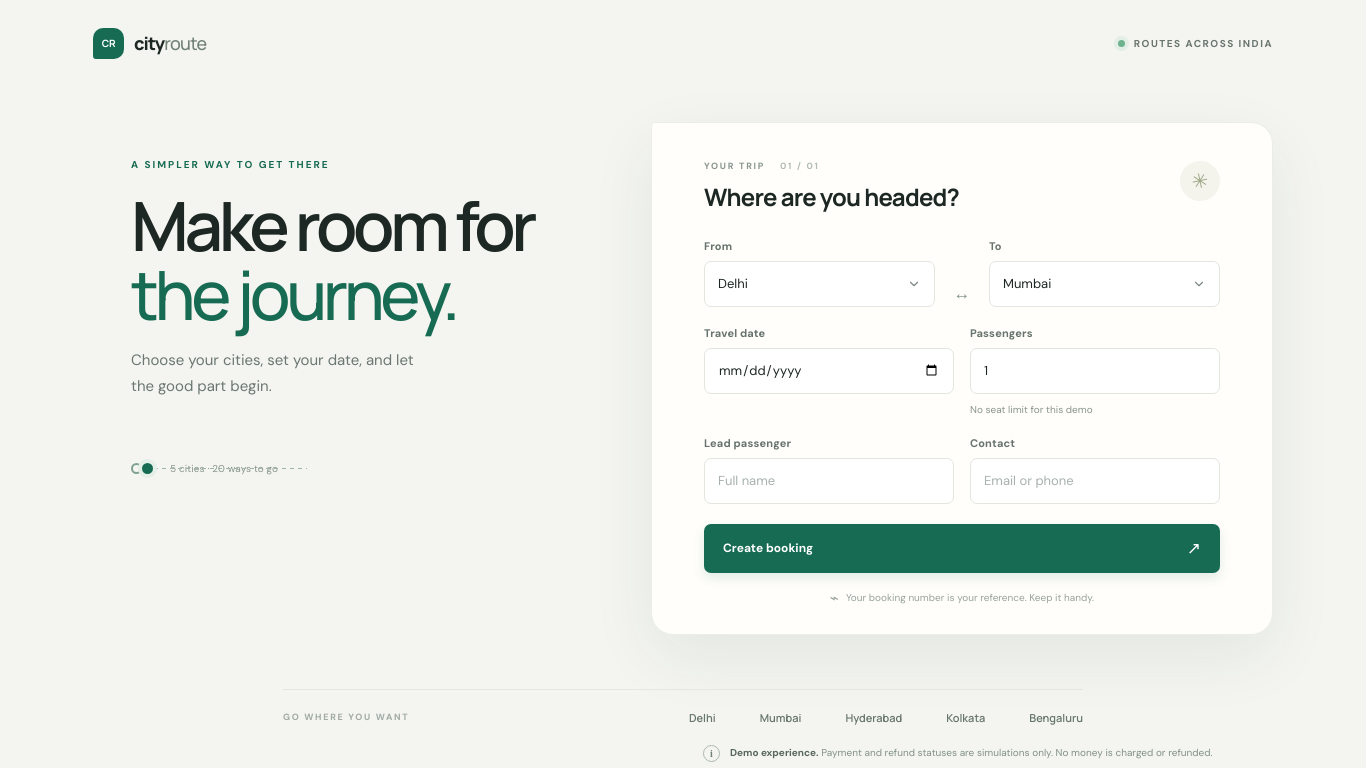
Scenario: booking interface › shows API field validation errors accessibly
The image size is (1366, 768).
In the date field labelled "Travel date": (829, 371) x1=704 y1=348 x2=954 y2=394, type "2027-03-14"
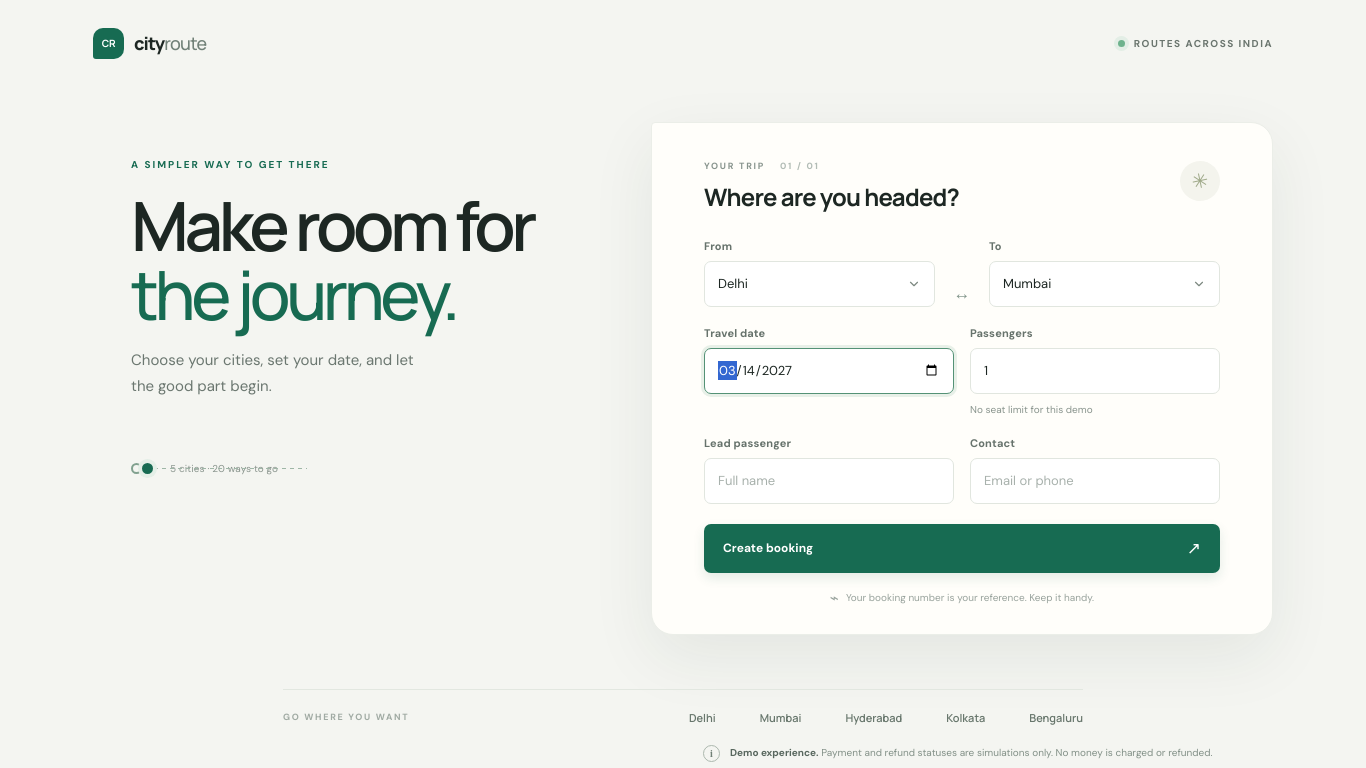
In the field labelled "Lead passenger": (829, 481) x1=704 y1=458 x2=954 y2=504, type "Ada Lovelace"
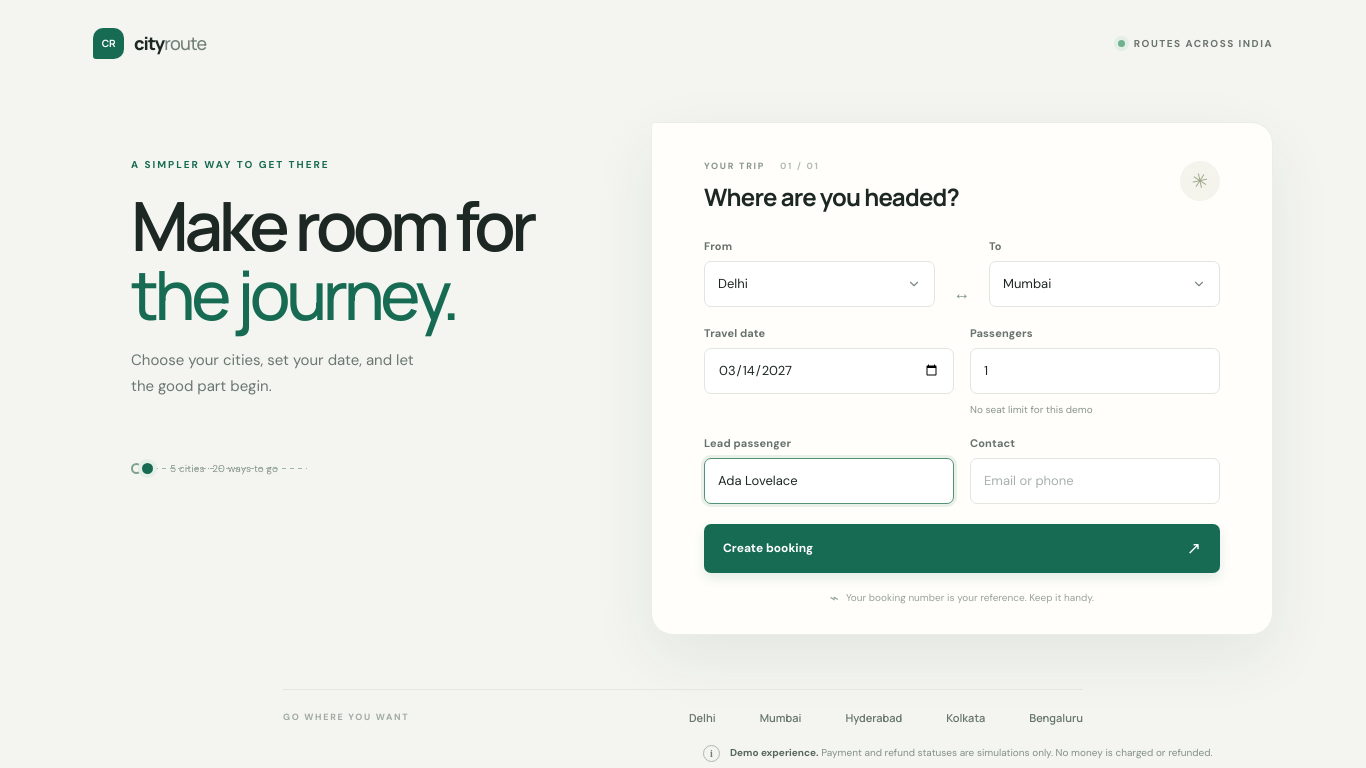
In the field labelled "Contact": (1095, 481) x1=970 y1=458 x2=1220 y2=504, type "ada@example.test"
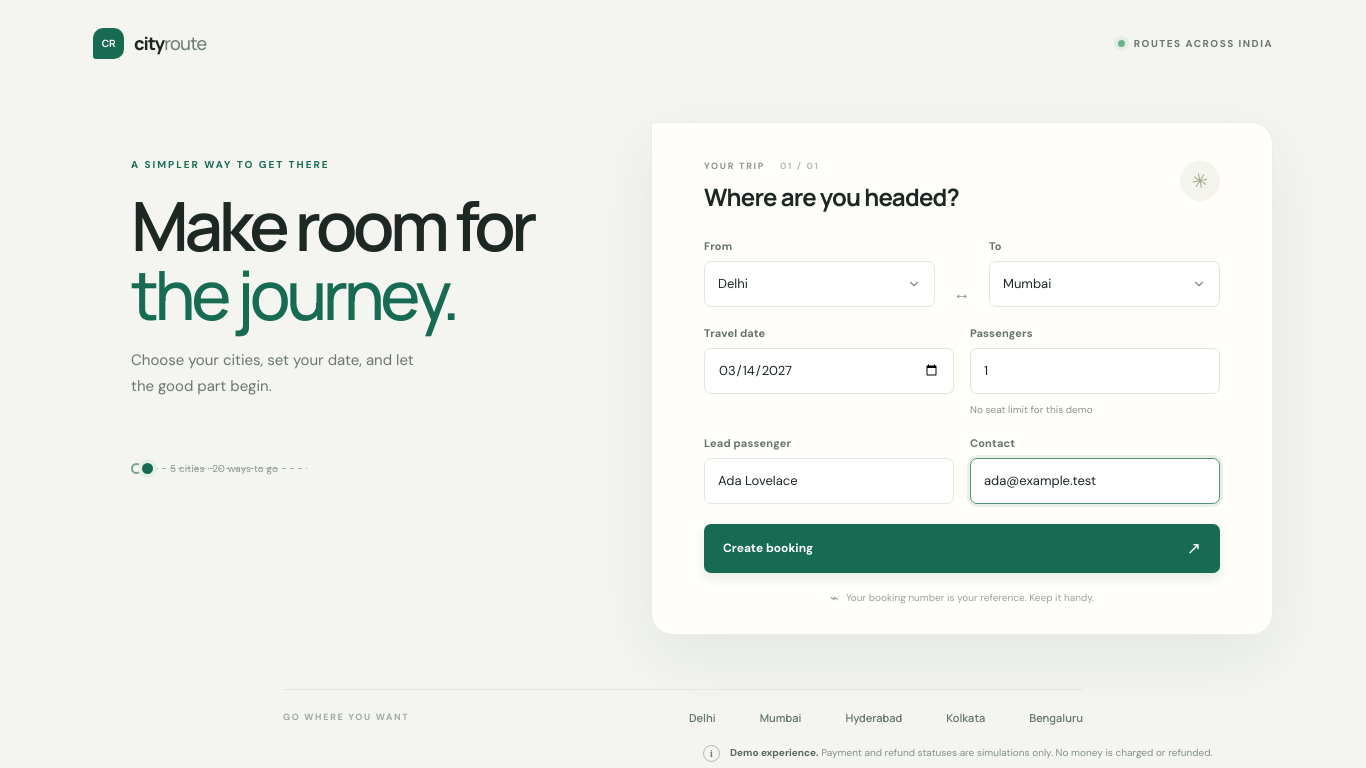
Click the button "Create booking ↗": (768, 548) x1=704 y1=524 x2=1220 y2=573
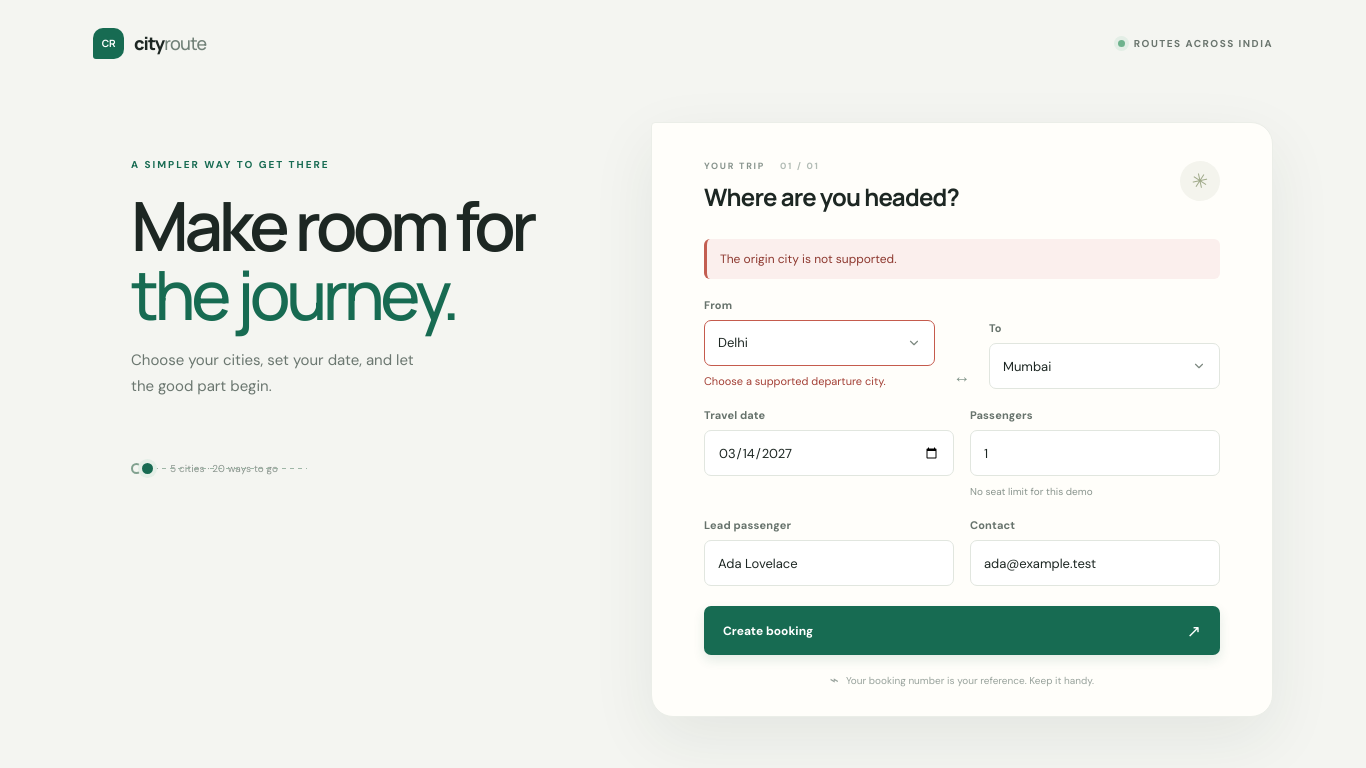
Now the message reads "The origin city is not supported.", box x1=720 y1=251 x2=896 y2=267
Now the text "Choose a supported departure city." is shown, box x1=704 y1=374 x2=886 y2=388
